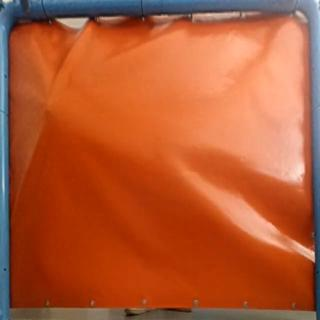Hit-hRxx: (41, 99, 54, 115)
